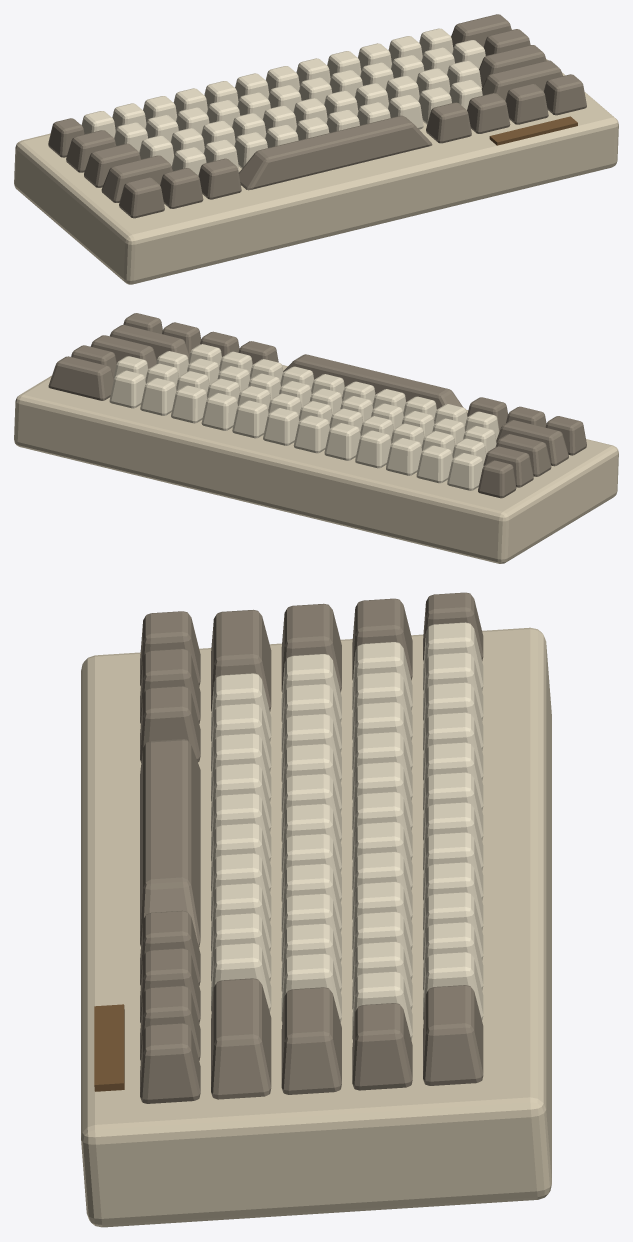
Rendered from kb_retro.glb.
3 renders of one model, top to bottom at view 1: azimuth 30°, elevation 25°; view 2: azimuth 150°, elevation 25°; view 3: azimuth 270°, elevation 25°, orthographic. The views are drawn at different scales.
Parts seen in each view (by area): view 1: kb_retro; view 2: kb_retro; view 3: kb_retro.
Part boxes in pixels (x1=…): kb_retro: x1=14, y1=14, x2=618, y2=284; kb_retro: x1=14, y1=313, x2=618, y2=563; kb_retro: x1=81, y1=592, x2=551, y2=1227.
Bounding box in the file's own units: 0.305 × 0.0539 × 0.1262.
